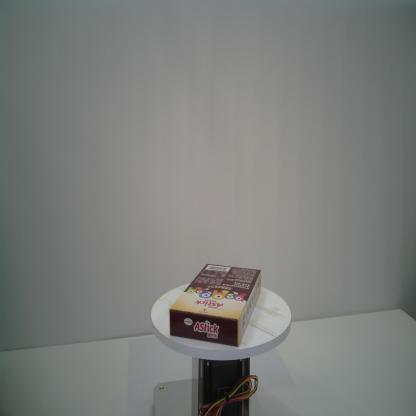Dessert: (169, 264, 262, 348)
